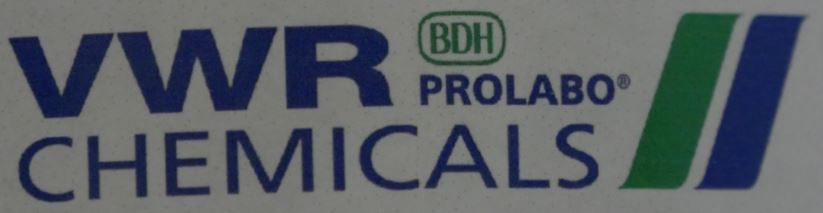VWR: (7, 6, 815, 207)
